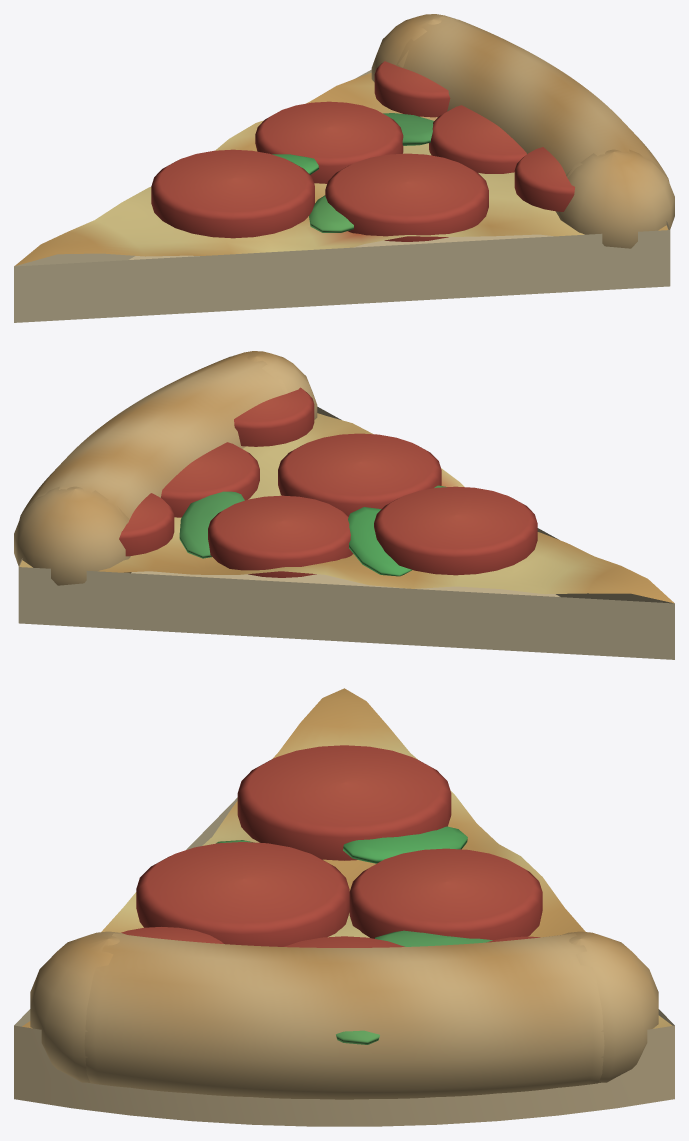
Rendered from pizza_kousek.glb.
3 renders of one model, top to bottom at view 1: azimuth 30°, elevation 25°; view 2: azimuth 150°, elevation 25°; view 3: azimuth 270°, elevation 25°, orthographic. The views are drawn at different scales.
Visible parts, largest first — view 1: pizza_slice; view 2: pizza_slice; view 3: pizza_slice.
Part boxes in pixels (x1,y1,x2,y2): pizza_slice: (14, 14, 674, 322); pizza_slice: (14, 351, 674, 659); pizza_slice: (14, 688, 674, 1126).
Bounding box in the file's own units: 0.1749 × 0.032 × 0.1301.
